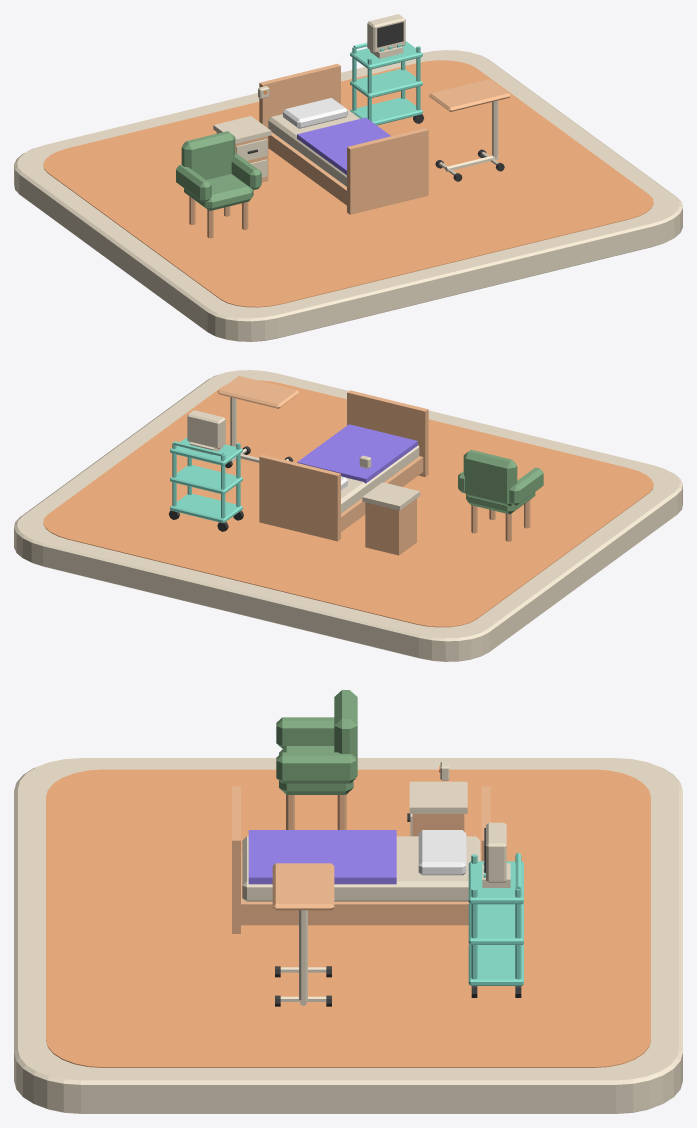
The picture shows the model from 3 angles, top to bottom: view 1: azimuth 30°, elevation 25°; view 2: azimuth 150°, elevation 25°; view 3: azimuth 270°, elevation 25°; orthographic projection. The views are drawn at different scales.
Parts seen in each view (by area): view 1: COM-02 Floor Surface, COM-01 Rounded Base Direct, End board, End board.001, Blanket, Back, Mattress, Table top, Frame, Cushion, Pillow, Tray.001 (+7 smaller); view 2: COM-02 Floor Surface, COM-01 Rounded Base Direct, End board.001, Blanket, End board, Body, Back, Table top, Housing, Mattress, Tray, Tray.001 (+5 smaller); view 3: COM-02 Floor Surface, COM-01 Rounded Base Direct, Blanket, Mattress, Frame, Table top, Arm.001, Pillow, Tray, Tray.001, Top, Arm (+7 smaller).
Boxes of the visible parts, x1,y1,x2,y2 form: COM-02 Floor Surface: [43, 60, 653, 307]; COM-01 Rounded Base Direct: [14, 50, 682, 341]; End board: [347, 128, 428, 214]; End board.001: [259, 63, 340, 148]; Blanket: [297, 117, 391, 174]; Back: [181, 131, 235, 179]; Mattress: [268, 102, 359, 186]; Table top: [429, 79, 510, 111]; Frame: [268, 132, 346, 205]; Cushion: [184, 174, 253, 210]; Pillow: [283, 98, 347, 128]; Tray.001: [350, 69, 422, 98]; COM-02 Floor Surface: [43, 380, 653, 627]; COM-01 Rounded Base Direct: [14, 370, 682, 661]; End board.001: [259, 454, 340, 541]; Blanket: [297, 424, 417, 483]; End board: [347, 390, 428, 477]; Body: [365, 498, 416, 555]; Back: [463, 449, 517, 505]; Table top: [217, 376, 299, 408]; Housing: [187, 410, 225, 448]; Mattress: [341, 445, 419, 513]; Tray: [170, 493, 242, 523]; Tray.001: [170, 465, 242, 494]; COM-02 Floor Surface: [46, 769, 650, 1067]; COM-01 Rounded Base Direct: [14, 758, 682, 1113]; Blanket: [248, 830, 396, 884]; Mattress: [242, 836, 480, 901]; Frame: [241, 853, 481, 925]; Table top: [272, 863, 334, 910]; Arm.001: [276, 752, 356, 783]; Pillow: [418, 830, 466, 875]; Tray: [468, 944, 523, 985]; Tray.001: [468, 903, 523, 944]; Top: [409, 781, 467, 813]; Arm: [276, 717, 334, 748].
Bounding box in the file's own units: 6 × 1.56 × 5.2.
Materials: 1 (1 with a texture image).
